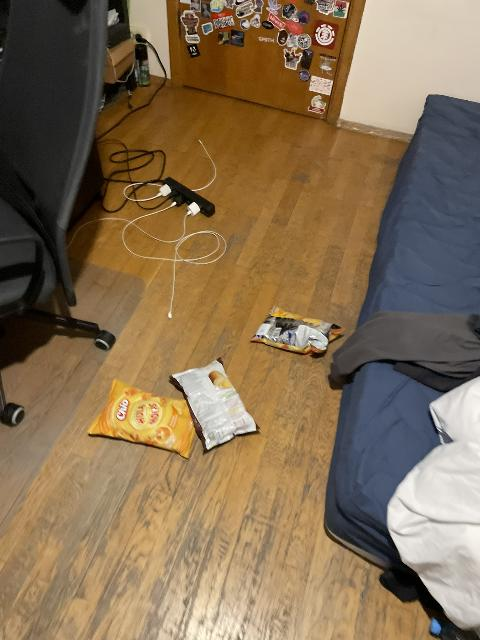Chio Cascaval 125g: (250, 305, 341, 352)
Chio Hula Hoops Cheese 70g: (87, 378, 198, 459)
Lays Beef Grilled Ribs 125g: (168, 359, 261, 452)
